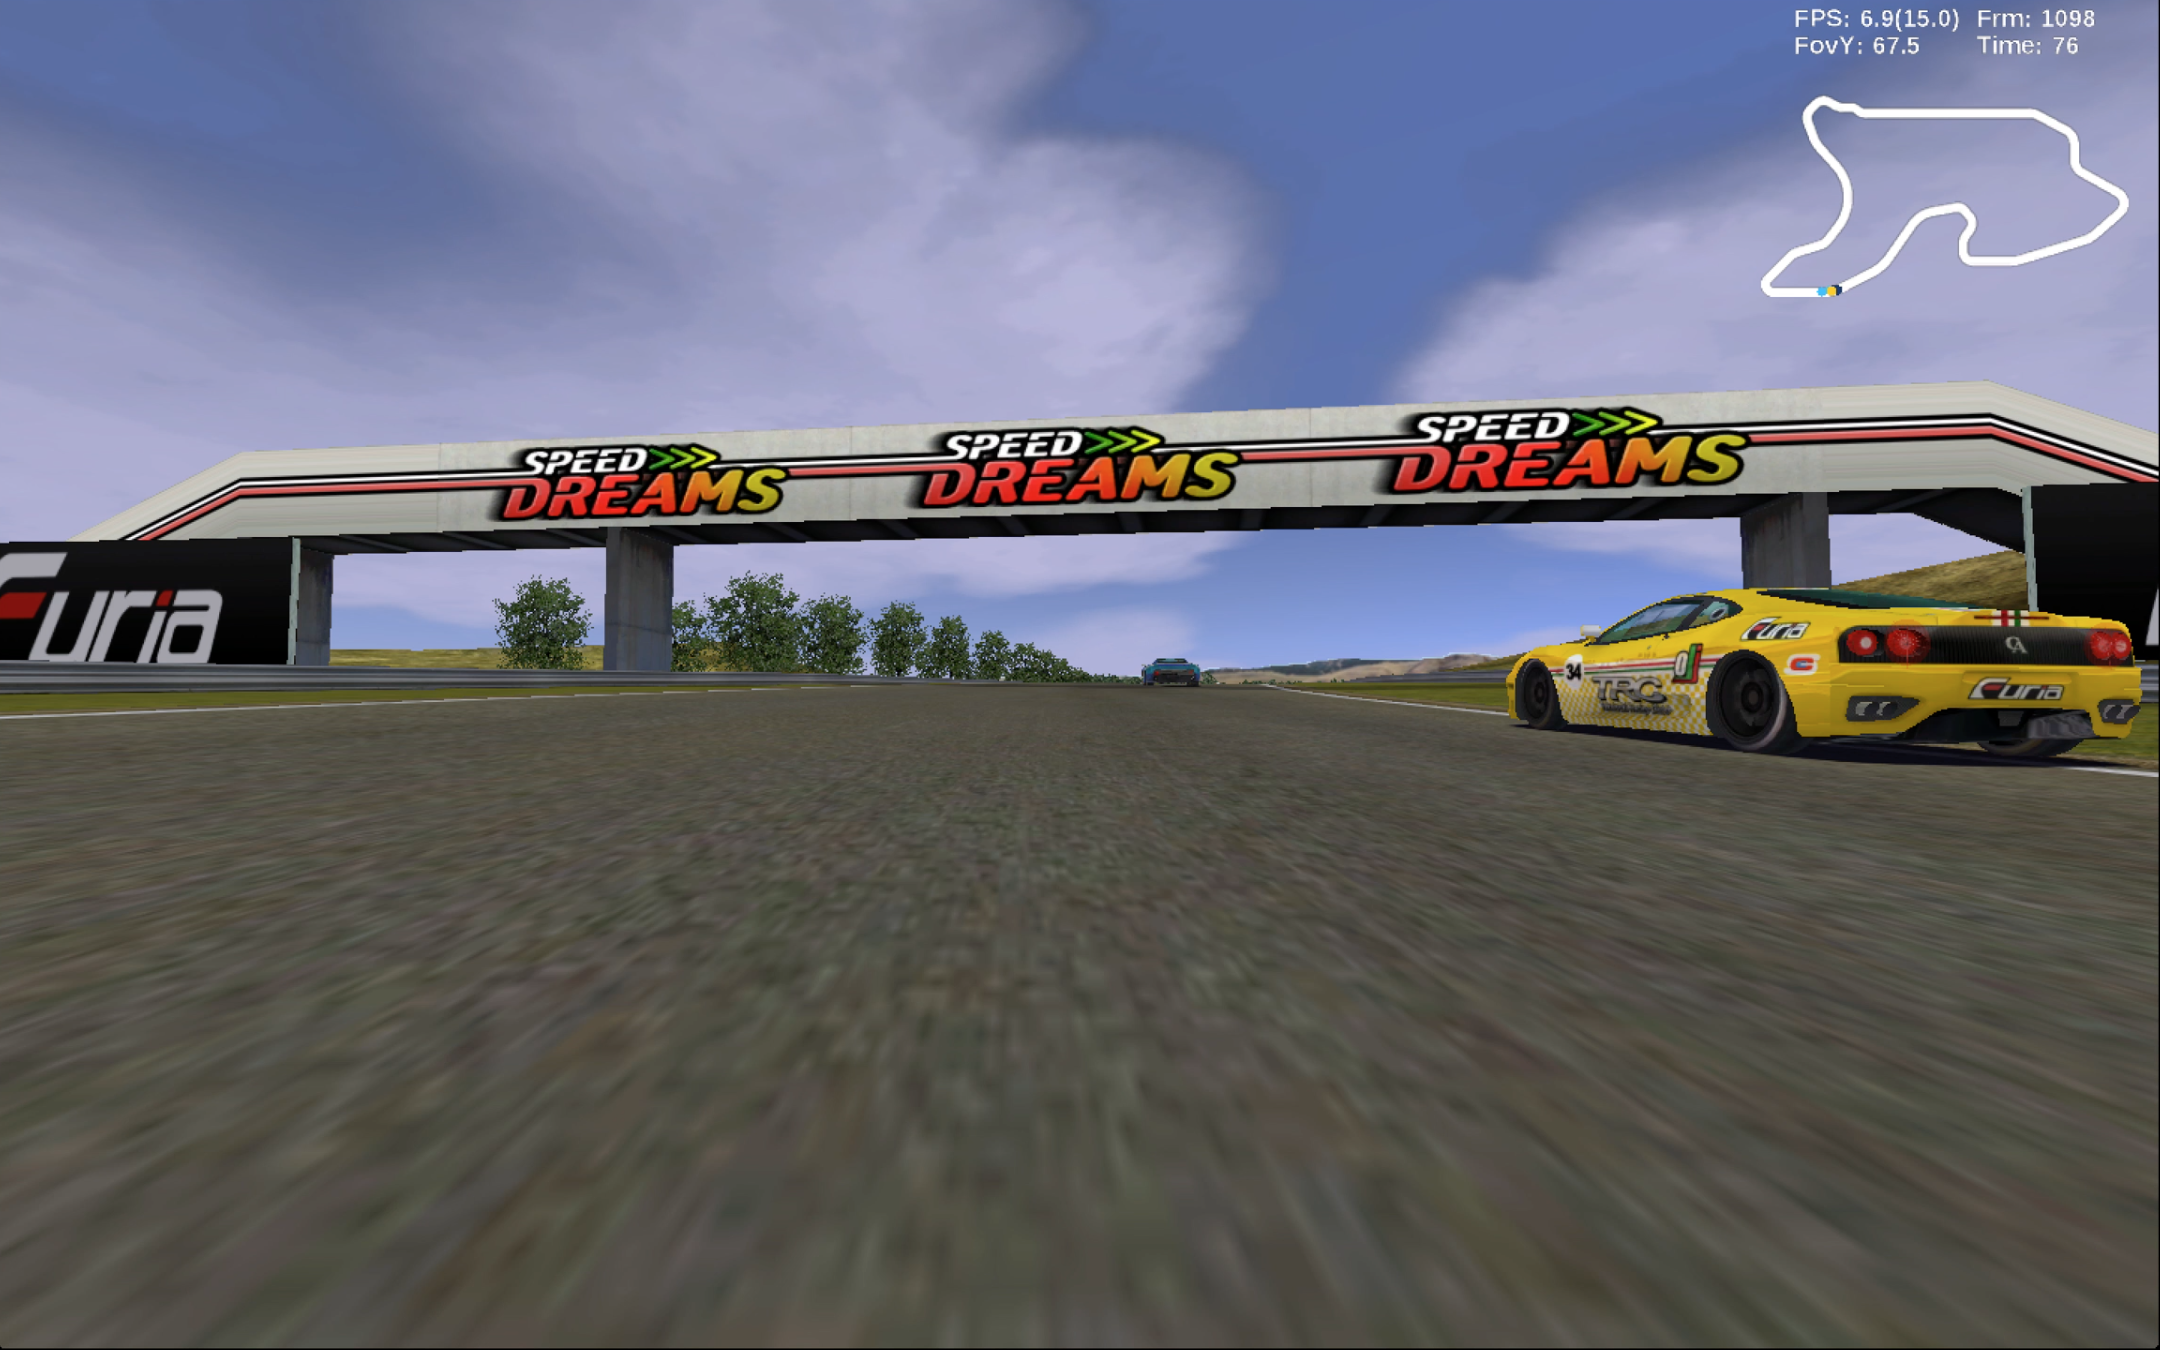Cavallo360: (1505, 586, 2143, 767)
Lynx220: (1141, 656, 1201, 686)
